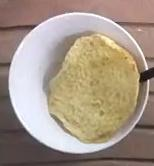bun: (48, 33, 138, 141)
